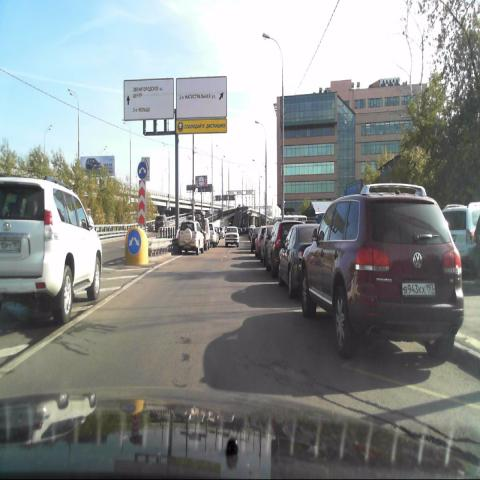4_2_3: (127, 229, 141, 256)
